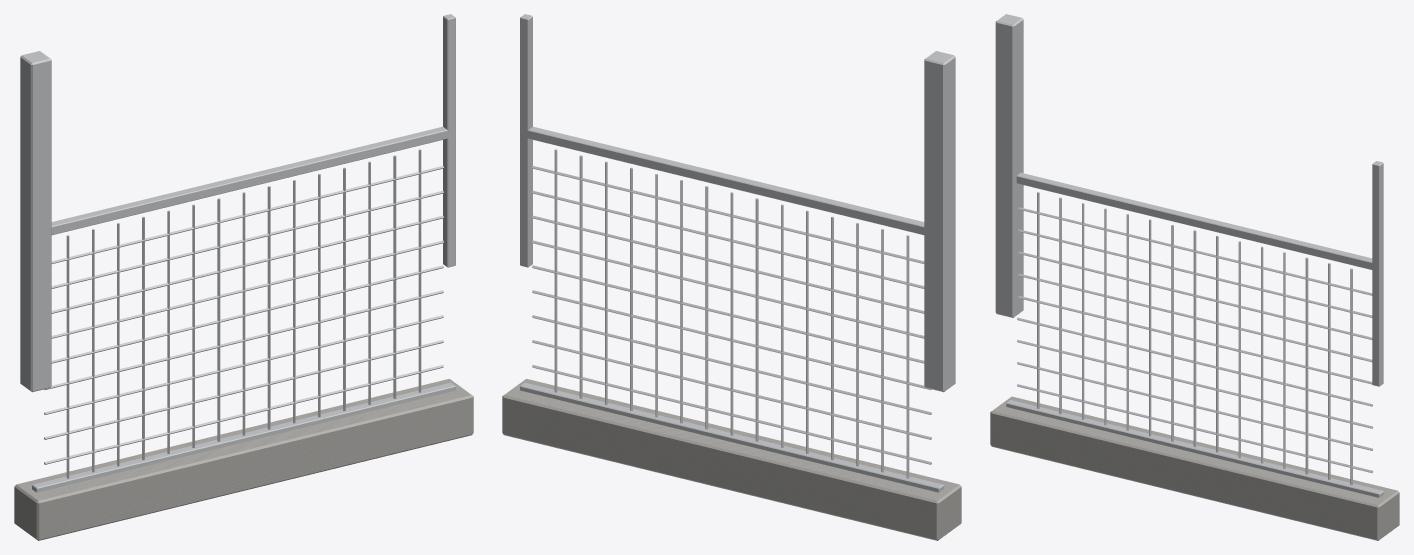
Rendered from japanese-school-and-city-street-perimeter-fence-sectio-80edf243__30068.glb.
3 views of the same model, side by side, from view 1: azimuth 30°, elevation 25°; view 2: azimuth 150°, elevation 25°; view 3: azimuth 330°, elevation 25° (orthographic). The views are drawn at different scales.
Parts seen in each view (by area): view 1: perimeter-fence-section; view 2: perimeter-fence-section; view 3: perimeter-fence-section.
Boxes of the visible parts, <box> form: perimeter-fence-section: <box>14,14,473,540</box>; perimeter-fence-section: <box>502,14,961,540</box>; perimeter-fence-section: <box>990,14,1399,540</box>.
Size of the model in its own units: 2.5 by 2.59 by 0.2399.
Materials: 2 (1 with a texture image).
